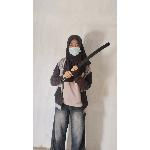Pedang: (58, 39, 115, 85)
